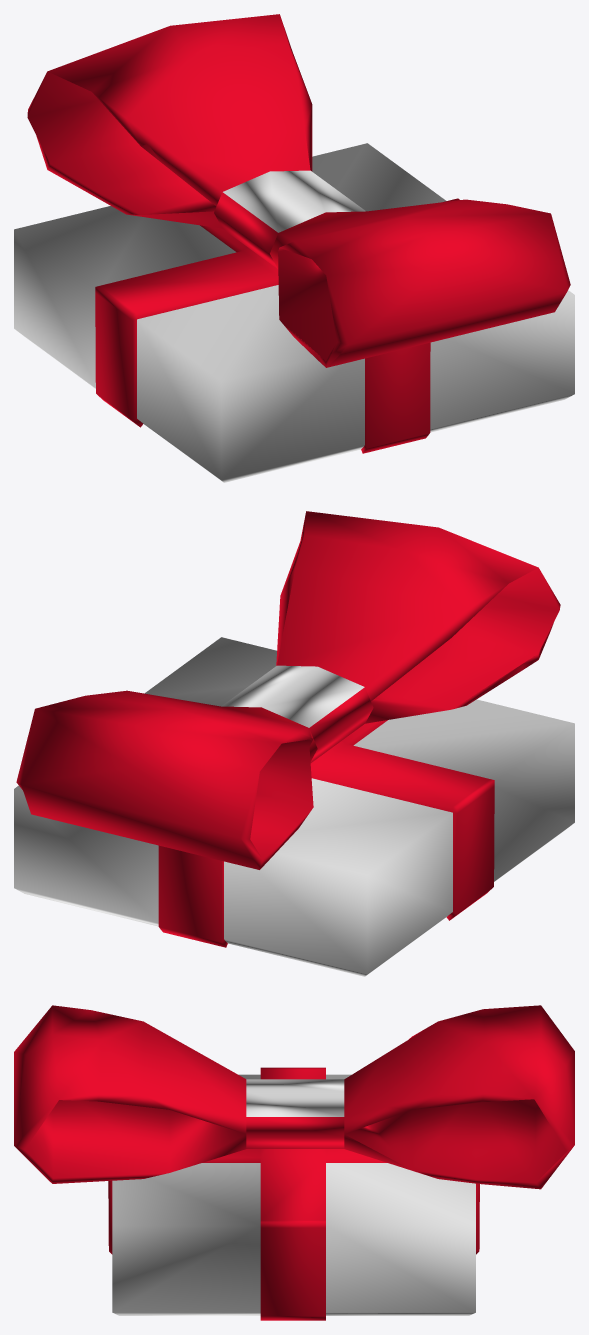
Rendered from box_top.fbx.
3 views of the same model, one above another, from view 1: azimuth 30°, elevation 25°; view 2: azimuth 150°, elevation 25°; view 3: azimuth 270°, elevation 25° (orthographic). The views are drawn at different scales.
Visible parts, largest first — view 1: ribbon1, top; view 2: ribbon1, top; view 3: ribbon1, top.
Boxes of the visible parts, <box> form: ribbon1: <box>27,14,570,367</box>; top: <box>14,143,574,482</box>; ribbon1: <box>16,511,560,869</box>; top: <box>14,637,574,976</box>; ribbon1: <box>14,1005,574,1189</box>; top: <box>108,1067,479,1320</box>.
Size of the model in its own units: 281 by 177 by 429.
